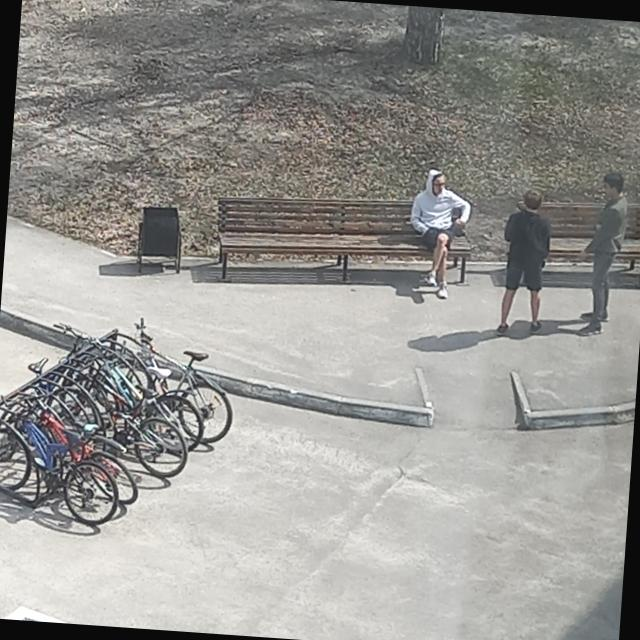person: (570, 168, 632, 338), (405, 165, 474, 299), (495, 188, 555, 337)
